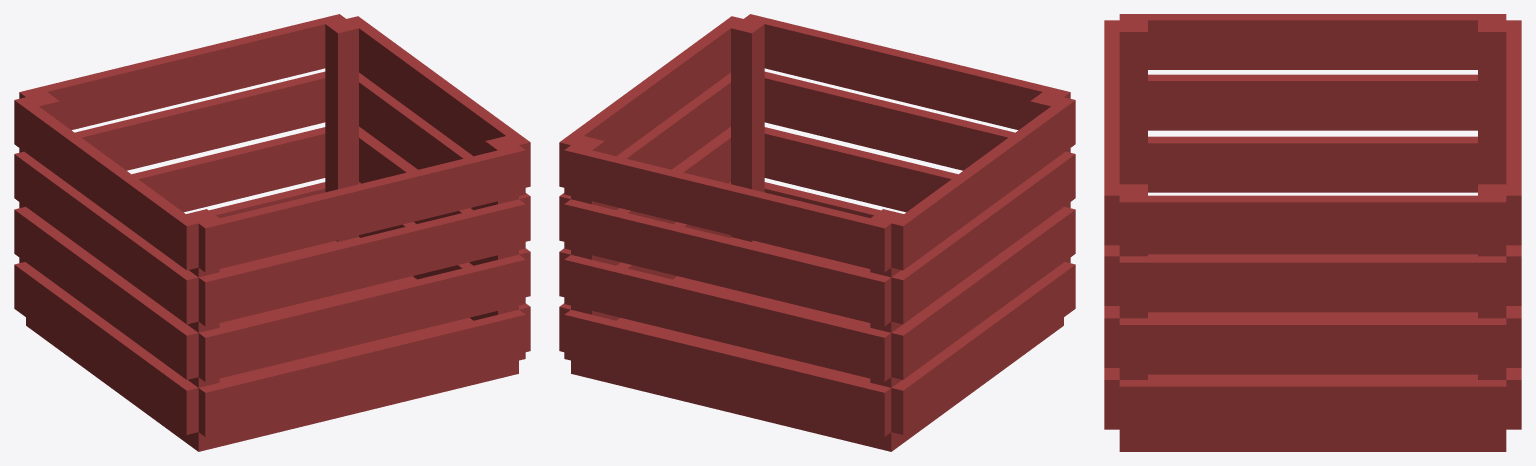
File: CrateB_1.fbx
3 views of the same model, side by side, from view 1: azimuth 30°, elevation 25°; view 2: azimuth 150°, elevation 25°; view 3: azimuth 270°, elevation 25° (orthographic). The views are drawn at different scales.
Visible parts, largest first — view 1: Crate2; view 2: Crate2; view 3: Crate2.
Boxes of the visible parts, box(x1,y1,x2,y2) form: Crate2: box(14, 14, 530, 451); Crate2: box(559, 14, 1075, 451); Crate2: box(1104, 14, 1521, 451).
Bounding box in the file's own units: 371 × 236 × 348.
